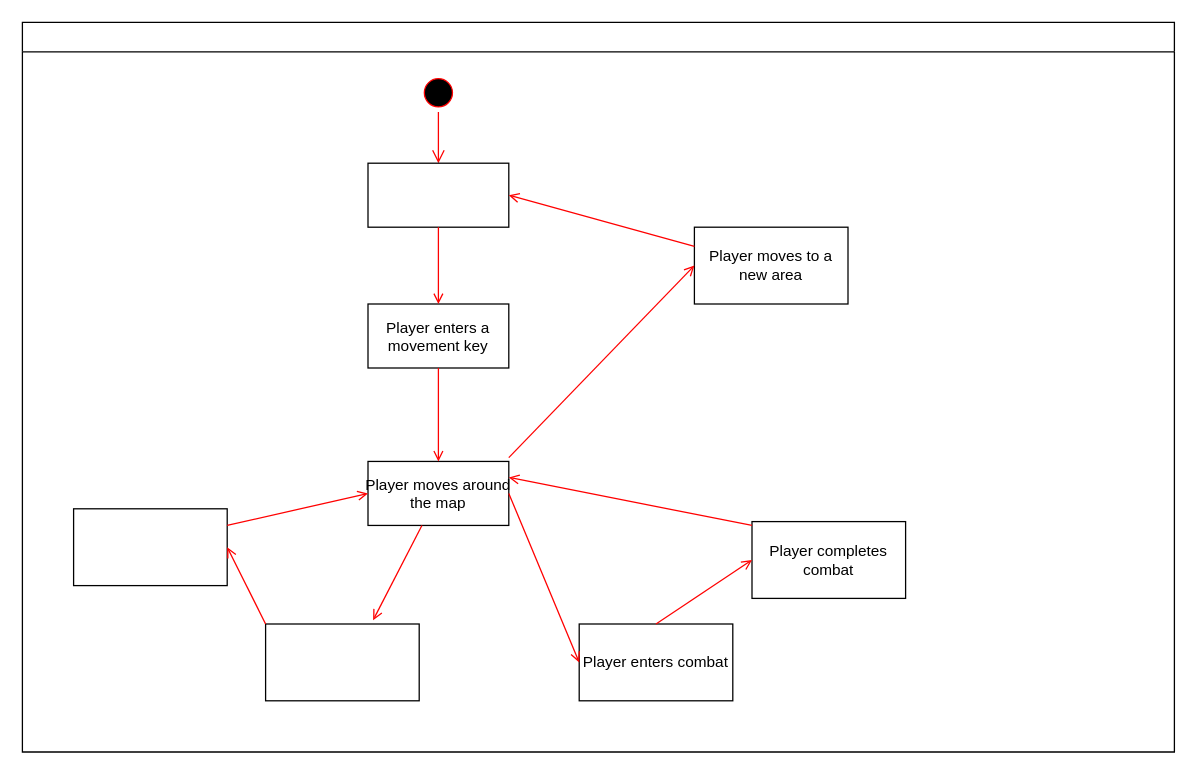
Some shapes in this 1197 by 774 pixel diagram are drawn without their labels. Here are the shapes that lost their labels. From the top down, the centre of each, then its label:
At [438,194]: "Player enters a map".
At [149,547]: "Player interacts with treasure chest".
At [341,662]: "Player discovers treasure chest".
